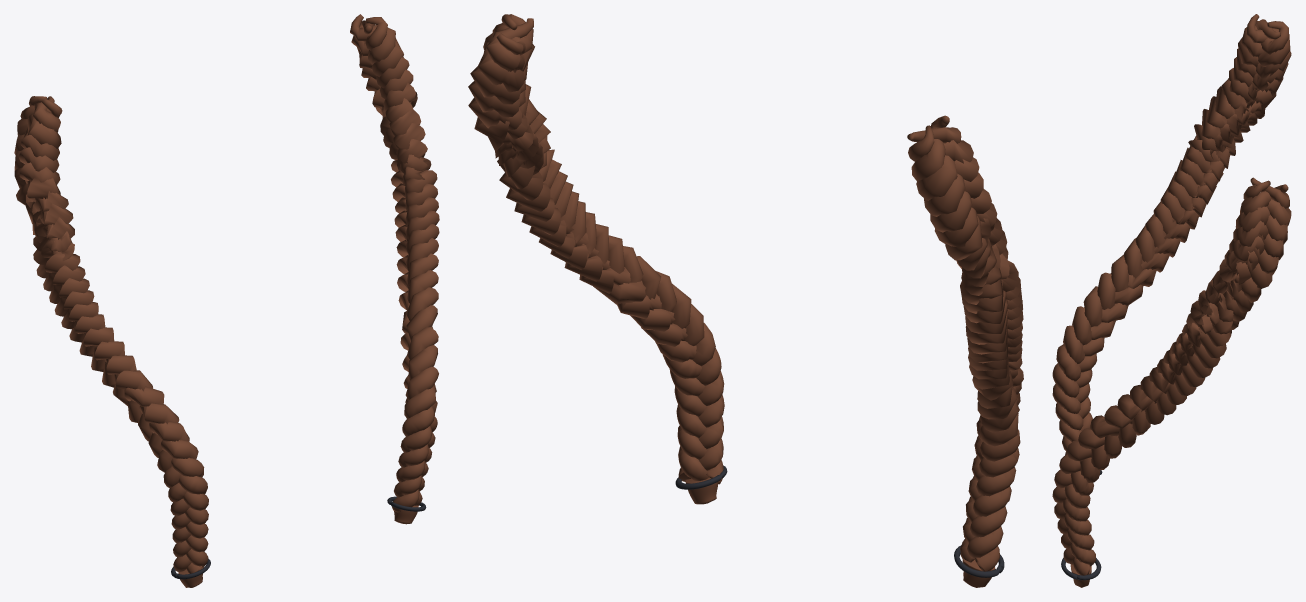
The model's file is twins-none-strappy-default.glb.
3 views of the same model, side by side, from view 1: azimuth 30°, elevation 25°; view 2: azimuth 150°, elevation 25°; view 3: azimuth 270°, elevation 25° (orthographic). The views are drawn at different scales.
Parts seen in each view (by area): view 1: 226 hairLengths / Hair / chestnut226; view 2: 226 hairLengths / Hair / chestnut226, 226 hairLengths / Hair / ties226; view 3: 226 hairLengths / Hair / chestnut226, 226 hairLengths / Hair / ties226.
Boxes of the visible parts, box(x1,y1,x2,y2) form: 226 hairLengths / Hair / chestnut226: box(14, 14, 439, 587); 226 hairLengths / Hair / chestnut226: box(468, 14, 1023, 587); 226 hairLengths / Hair / ties226: box(675, 465, 1004, 577); 226 hairLengths / Hair / chestnut226: box(1052, 14, 1291, 587); 226 hairLengths / Hair / ties226: box(1061, 470, 1102, 580).
Size of the model in its own units: 0.8713 by 0.9289 by 0.4504.
